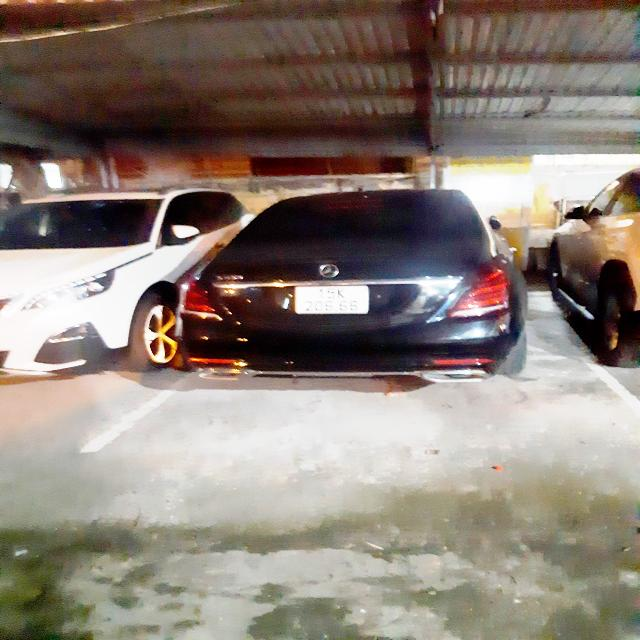license_plate: (290, 285, 375, 319)
